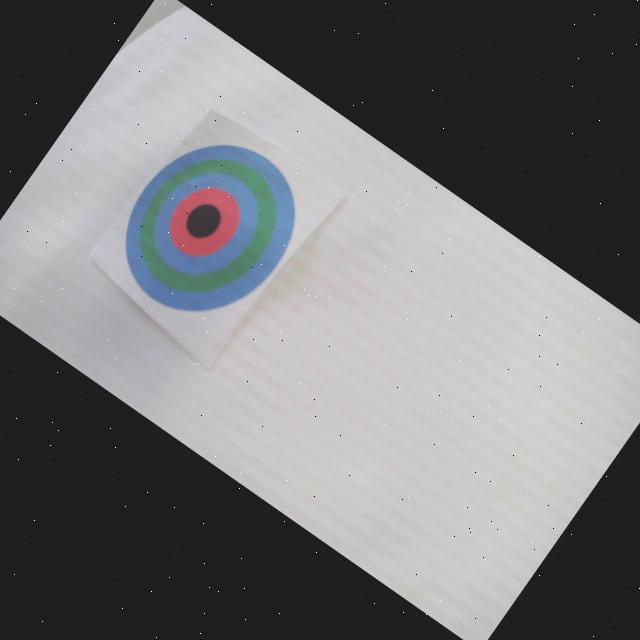COGNITIVE: (94, 111, 323, 347)
